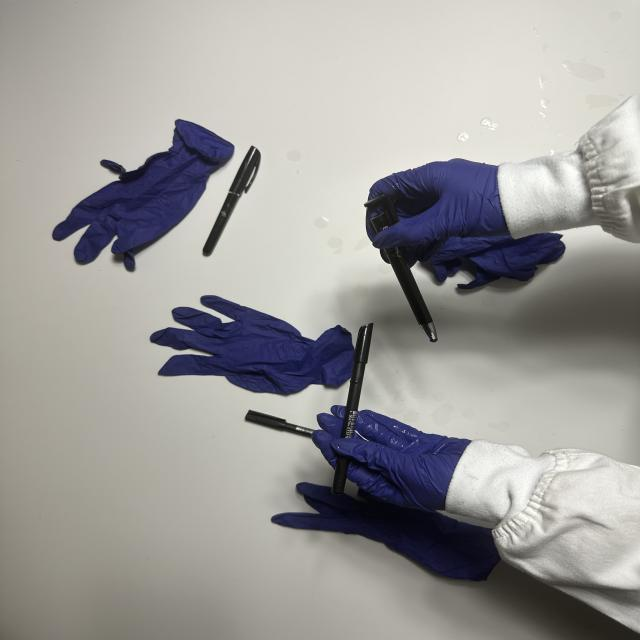gloves_contaminated: (312, 406, 470, 510), (366, 159, 510, 265)
